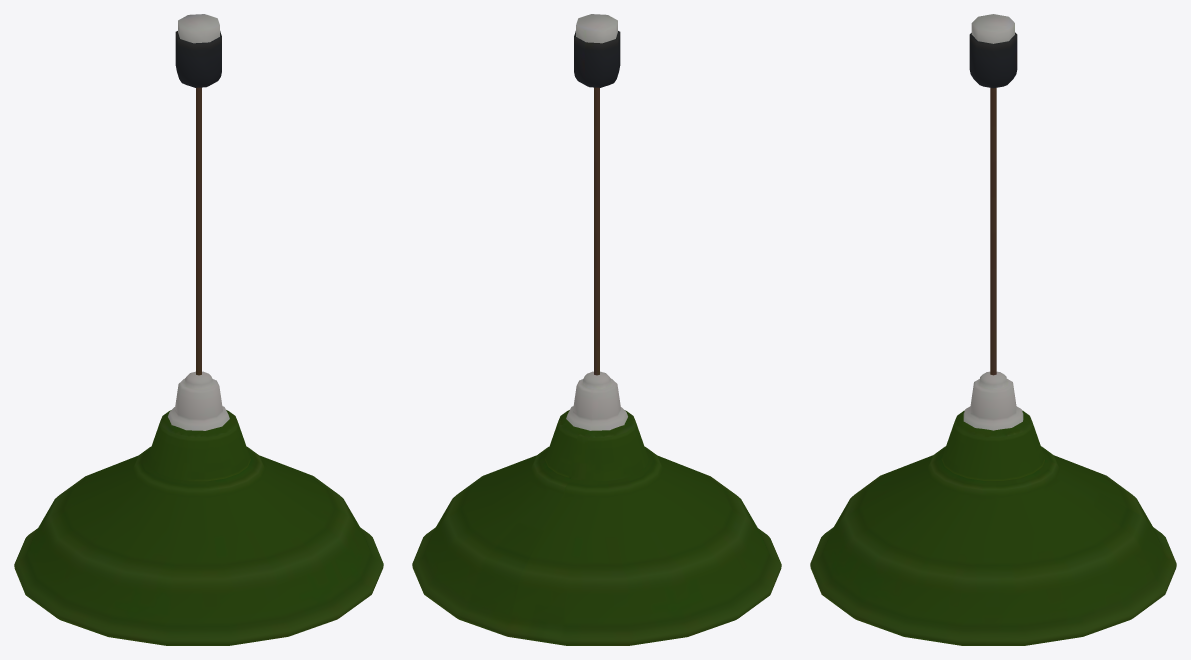
3 renders of one model, left to right at view 1: azimuth 30°, elevation 25°; view 2: azimuth 150°, elevation 25°; view 3: azimuth 270°, elevation 25°, orthographic.
Size of the model in its own units: 8.43 by 14.08 by 8.48.
Materials: 1 (1 with a texture image).
